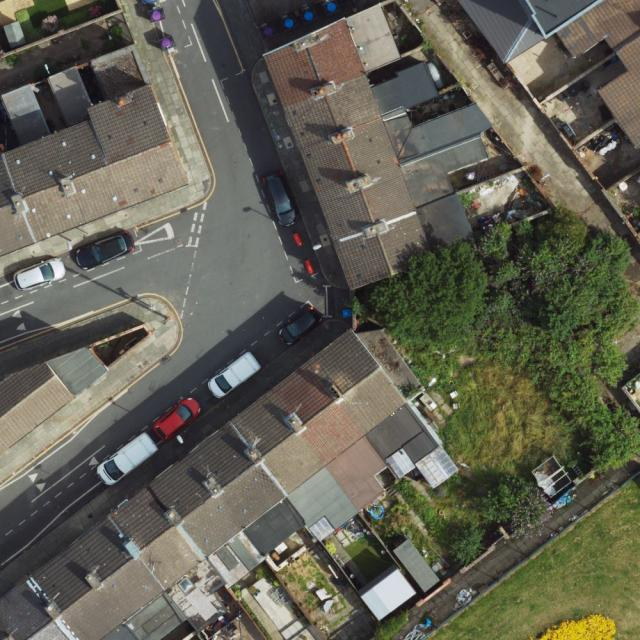roof: (1, 330, 443, 640), (264, 3, 493, 291), (0, 43, 190, 256), (459, 0, 640, 152), (0, 347, 108, 454)
skylight: (178, 574, 193, 595)
